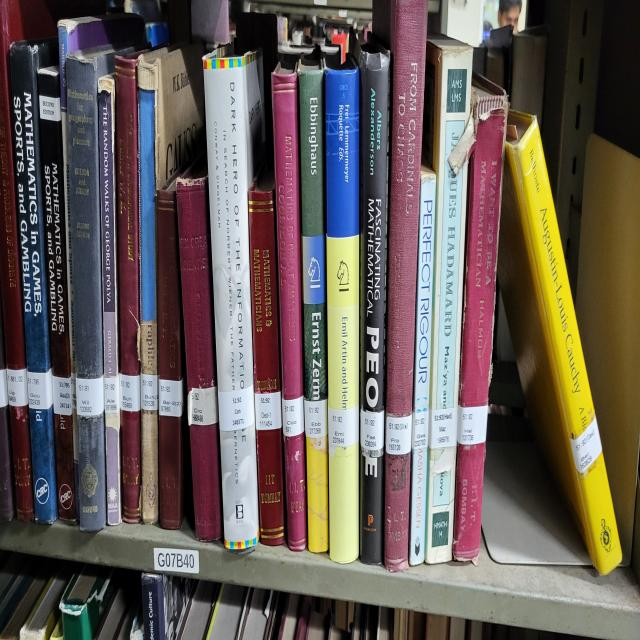Book: (499, 111, 622, 574), (202, 51, 265, 552), (374, 0, 428, 571), (450, 76, 508, 563), (422, 38, 471, 563), (66, 46, 115, 530), (10, 41, 58, 522), (176, 157, 222, 541), (325, 65, 360, 563), (38, 68, 76, 519), (271, 65, 306, 549), (359, 43, 390, 563), (298, 60, 329, 552), (249, 170, 285, 547), (115, 54, 141, 522), (409, 165, 436, 565), (156, 176, 185, 530), (99, 76, 121, 525), (138, 54, 159, 522), (0, 295, 15, 519)
Label: (570, 417, 602, 473), (219, 384, 255, 430), (329, 406, 359, 455), (429, 406, 458, 449), (188, 387, 219, 425), (76, 376, 104, 417), (458, 406, 488, 444), (385, 414, 412, 455), (360, 409, 385, 452), (255, 392, 281, 430), (28, 368, 52, 409), (159, 379, 184, 417), (282, 395, 304, 438), (304, 400, 328, 438), (6, 368, 29, 406), (120, 373, 140, 411), (52, 376, 72, 414), (411, 409, 429, 449), (140, 373, 158, 411), (104, 376, 120, 414), (0, 368, 9, 409), (71, 371, 76, 414)
